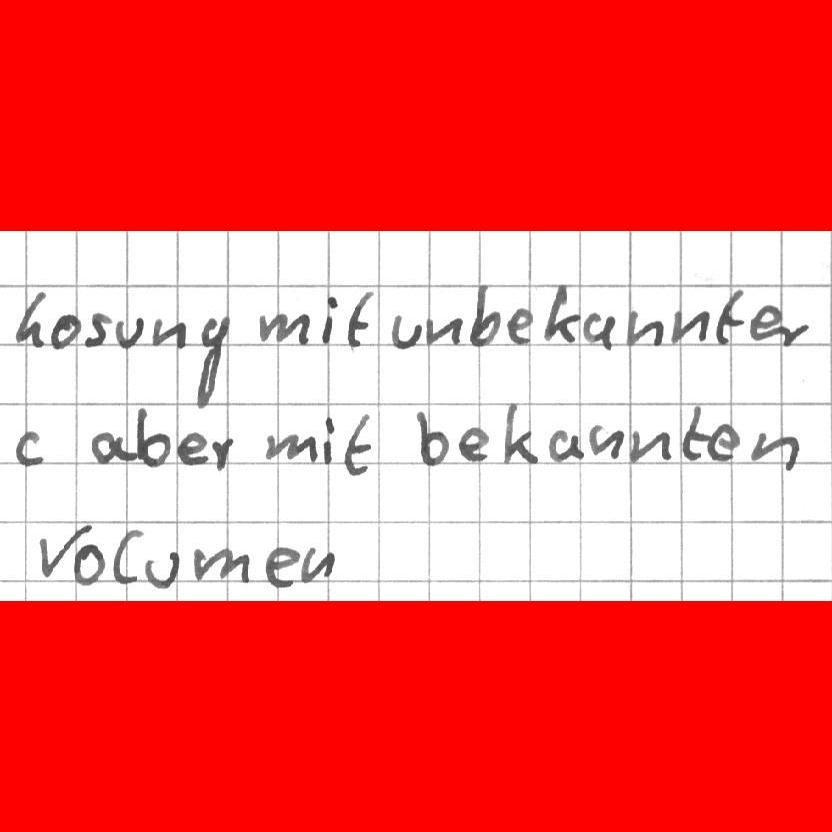Char: (34, 517, 90, 582), (193, 312, 229, 408), (500, 401, 538, 467), (543, 281, 580, 346), (413, 406, 451, 468), (133, 406, 169, 471), (752, 428, 804, 472), (468, 283, 503, 347), (257, 309, 310, 350), (11, 288, 47, 347), (677, 404, 711, 465), (193, 549, 249, 585), (341, 415, 374, 473), (714, 288, 746, 347), (110, 527, 141, 585), (344, 289, 375, 346), (263, 430, 318, 462), (669, 306, 710, 348), (143, 546, 181, 591), (263, 543, 299, 590), (626, 307, 666, 348), (706, 418, 740, 466), (88, 427, 128, 465), (631, 427, 671, 463), (388, 310, 421, 352), (583, 309, 615, 351), (12, 428, 44, 470), (73, 542, 104, 585), (424, 312, 461, 348), (547, 427, 584, 463), (47, 312, 82, 350), (300, 544, 334, 583), (457, 424, 491, 462), (588, 422, 622, 460), (112, 314, 145, 352), (176, 430, 209, 468), (750, 302, 779, 344), (506, 304, 533, 347), (152, 316, 185, 350), (320, 292, 339, 345), (84, 309, 109, 349), (781, 317, 809, 347), (321, 413, 337, 465), (209, 435, 232, 471)
